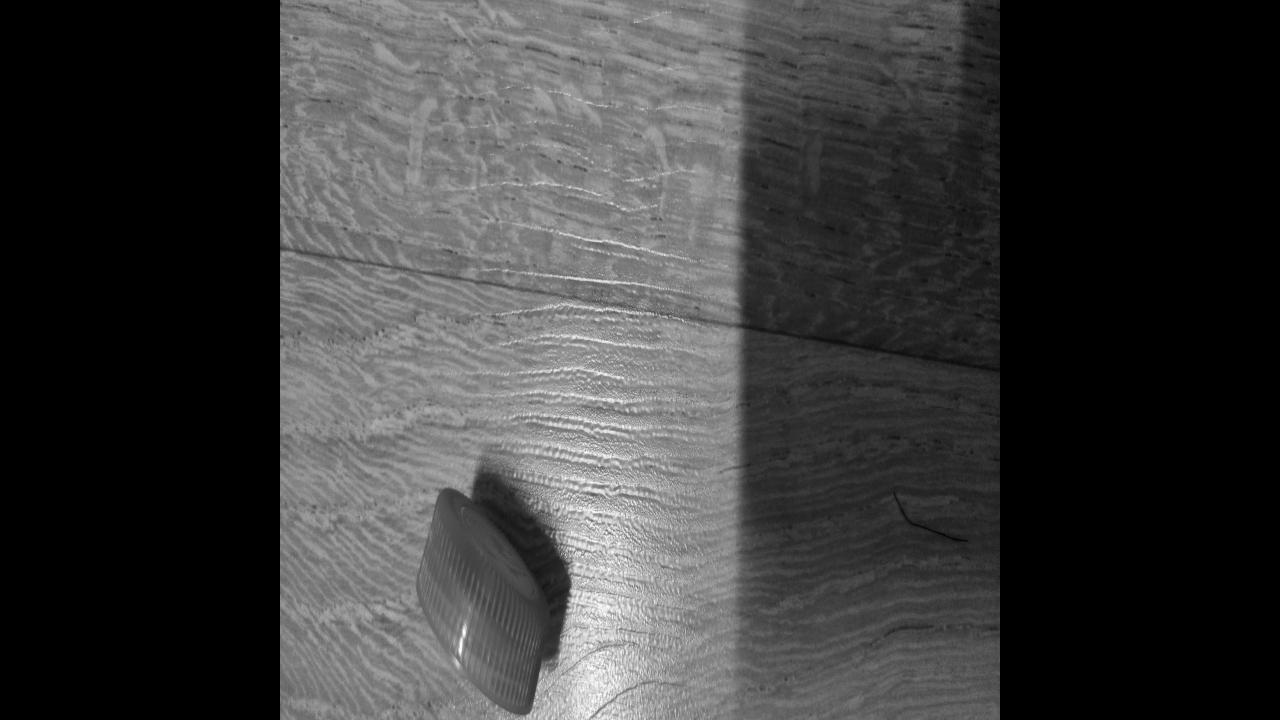bottle_cap: (418, 492, 546, 704)
